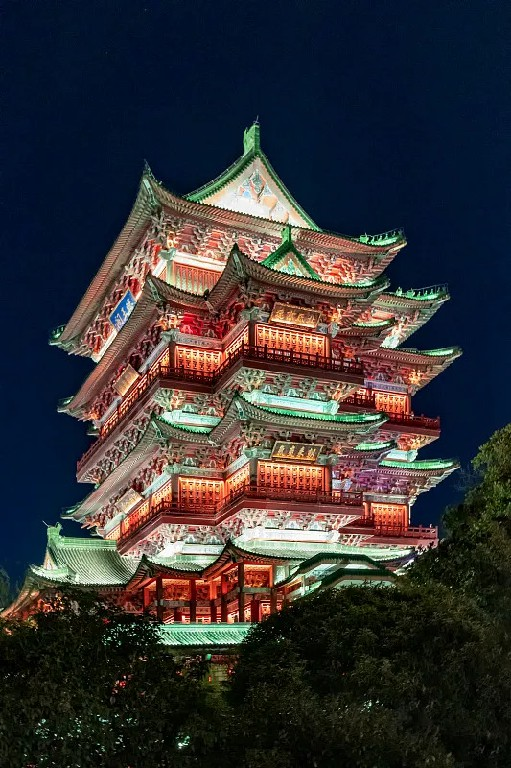Teng: (1, 119, 462, 644)
